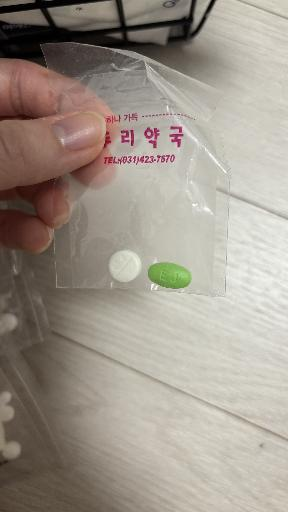Flasinyl: (108, 250, 141, 283)
Upadin: (148, 262, 191, 289)
vinyl: (43, 42, 230, 296)
